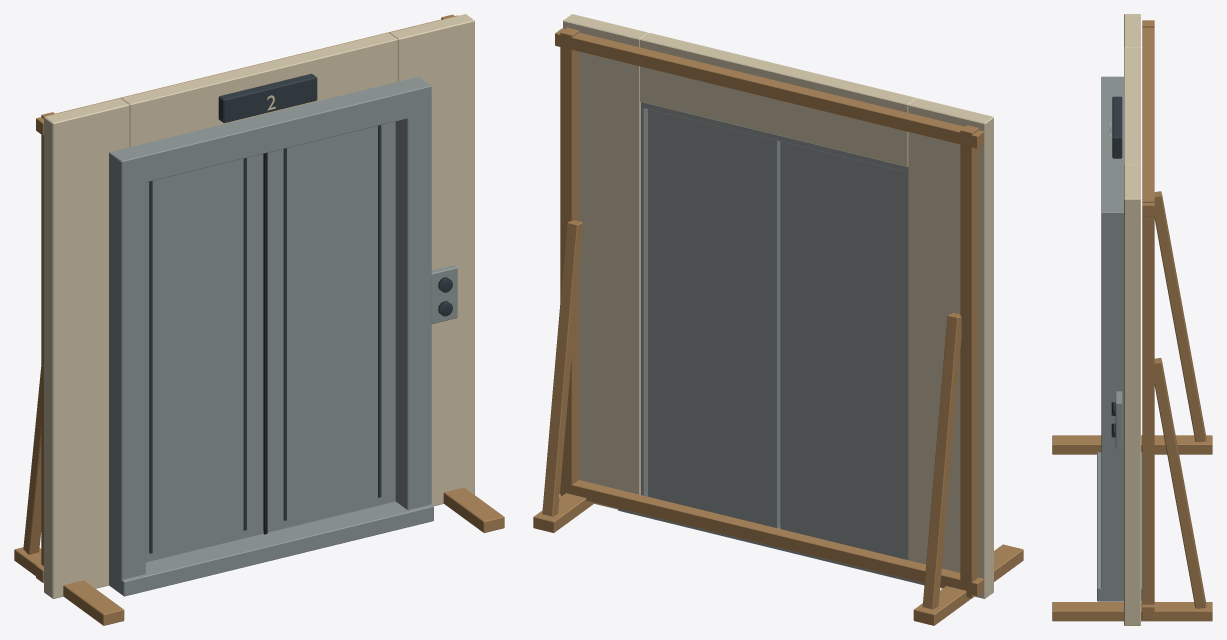
Rendered from S023_elevator_facade_rebuilt.glb.
3 renders of one model, left to right at view 1: azimuth 30°, elevation 25°; view 2: azimuth 150°, elevation 25°; view 3: azimuth 270°, elevation 25°, orthographic. The views are drawn at different scales.
Visible parts, largest first — view 1: Bare_brushed_hardware, Warm_matte_scenic_paint, Dark_painted_steel, Scenic_framing_warm_bare_timber, Deep_recess_charcoal; view 2: Bare_brushed_hardware, Warm_matte_scenic_paint, Scenic_framing_warm_bare_timber; view 3: Scenic_framing_warm_bare_timber, Bare_brushed_hardware, Warm_matte_scenic_paint, Dark_painted_steel.
Part boxes in pixels (<box>): Bare_brushed_hardware: <box>109,76,457,596</box>; Warm_matte_scenic_paint: <box>44,14,474,598</box>; Dark_painted_steel: <box>149,73,452,553</box>; Scenic_framing_warm_bare_timber: <box>14,14,504,625</box>; Deep_recess_charcoal: <box>263,153,267,534</box>; Bare_brushed_hardware: <box>618,102,924,585</box>; Warm_matte_scenic_paint: <box>563,14,993,598</box>; Scenic_framing_warm_bare_timber: <box>533,27,1023,625</box>; Scenic_framing_warm_bare_timber: <box>1052,20,1212,621</box>; Bare_brushed_hardware: <box>1097,76,1142,601</box>; Warm_matte_scenic_paint: <box>1110,14,1140,625</box>; Dark_painted_steel: <box>1111,96,1122,437</box>.
Size of the model in its own units: 2.6 by 2.8 by 0.9525.
